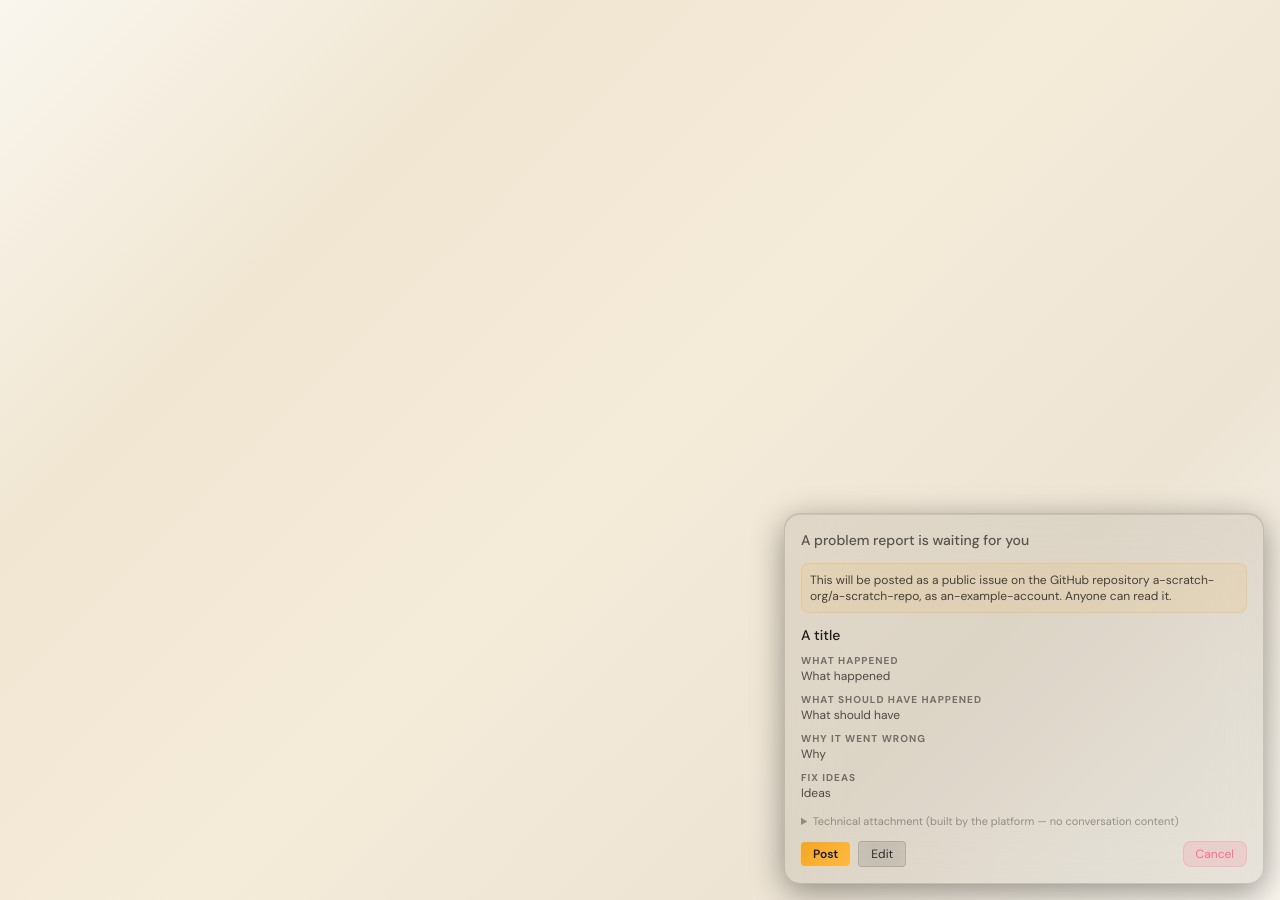
the duplicate question, answered in a browser › "Not now" posts nothing at all and leaves the report waiting
This screenshot has width=1280, height=900.
Check: the text "A title" is shown, box [801, 626, 840, 644]
Click the button "Post" at (826, 854), box [801, 842, 850, 866]
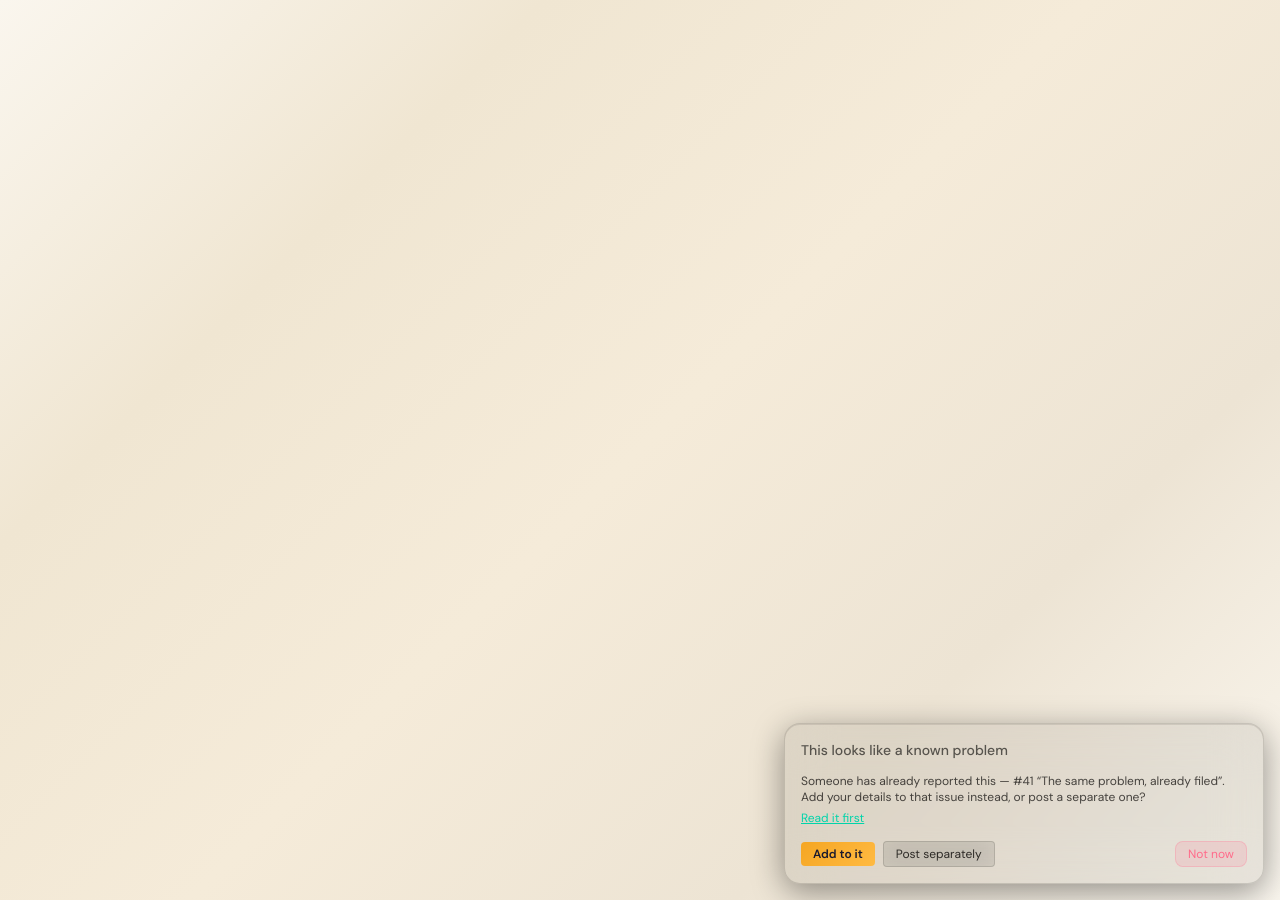
Click the button "Not now" at (1211, 854), box [1175, 841, 1247, 867]
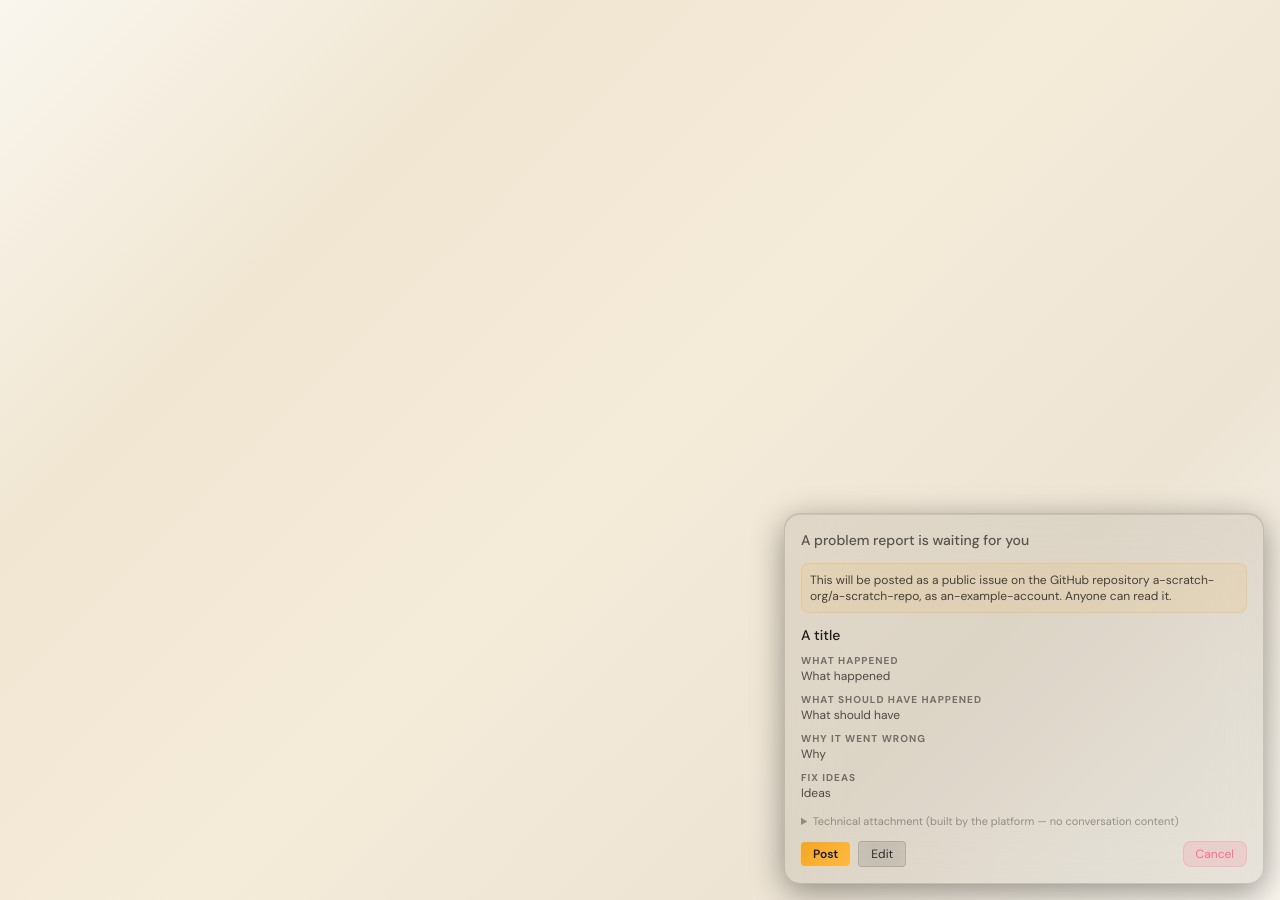
Check: the text "A title" is shown, box [801, 626, 840, 644]
